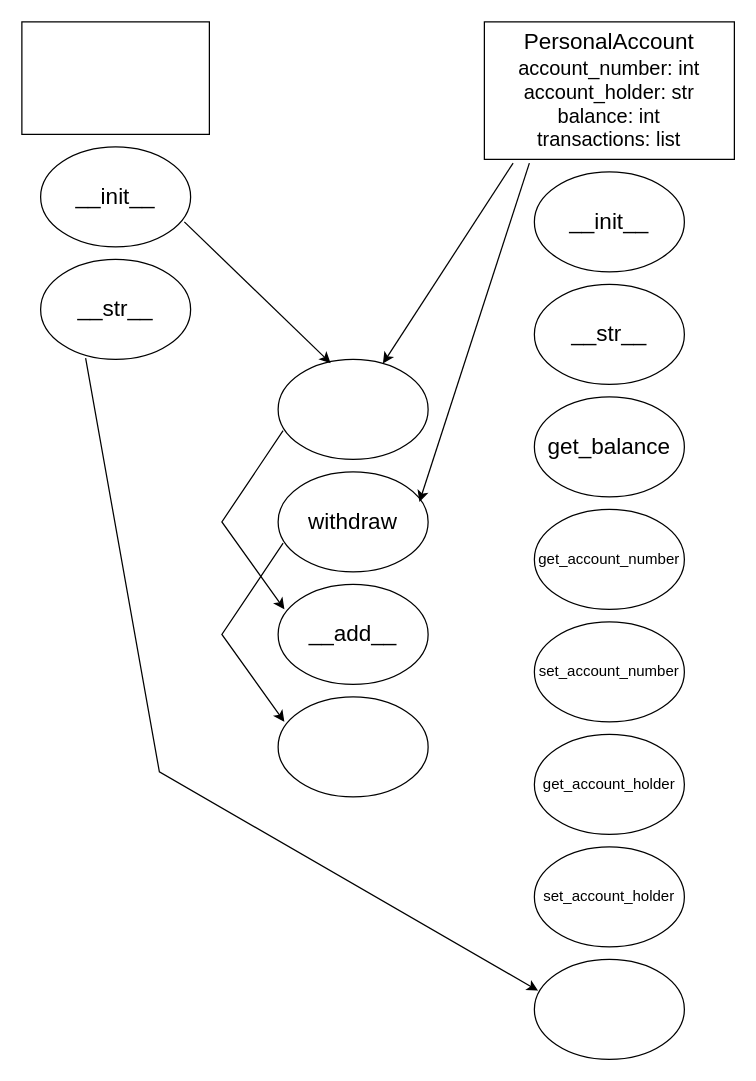
This 756x1081 diagram has some shape labels left out. The centre of each missing label's shape, as x and y in pixels:
"__sub__" belongs at (x=352, y=746).
"Amount amount:int timestamp:datetime transaction_type" belongs at (x=115, y=77).
"deposite" belongs at (x=352, y=408).
"print_transaction_history" belongs at (x=608, y=1008).
